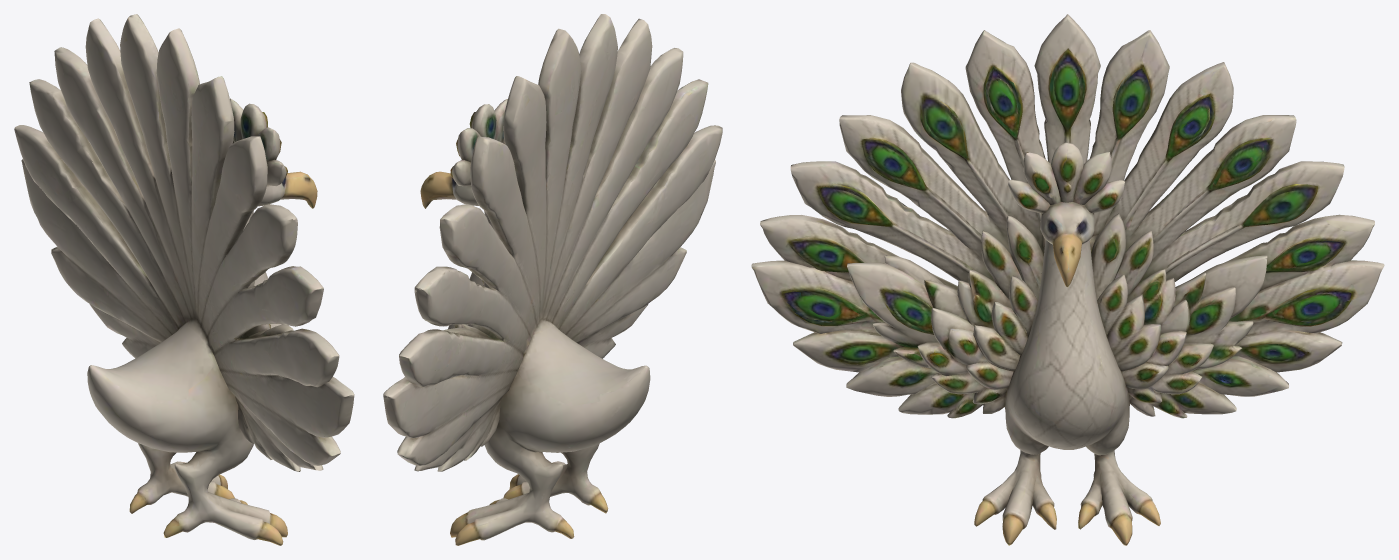
The model's file is marblePeacock.glb.
3 renders of one model, left to right at view 1: azimuth 30°, elevation 25°; view 2: azimuth 150°, elevation 25°; view 3: azimuth 270°, elevation 25°, orthographic. The views are drawn at different scales.
Visible parts, largest first — view 1: geometry_0; view 2: geometry_0; view 3: geometry_0.
Part boxes in pixels (box(x1,y1,x2,y2)): geometry_0: box(14, 14, 354, 545); geometry_0: box(383, 14, 722, 545); geometry_0: box(751, 14, 1384, 545).
Size of the model in its own units: 0.4044 by 0.8578 by 0.9993.
Materials: 1 (1 with a texture image).
